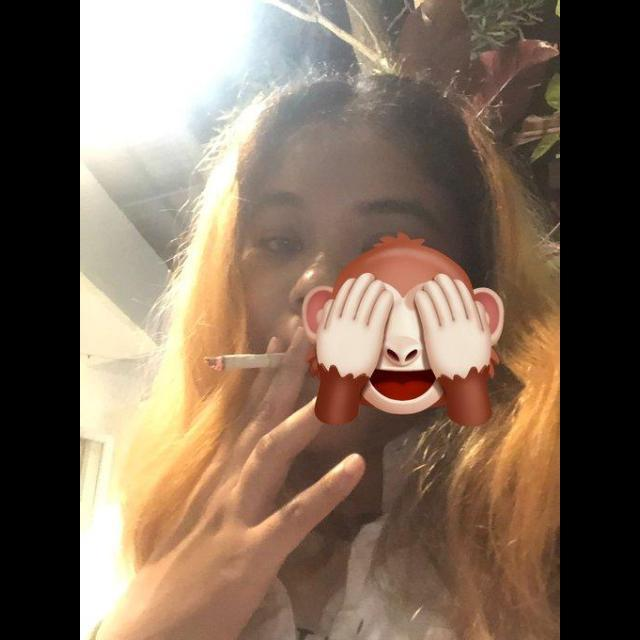rokok: (204, 344, 308, 376)
